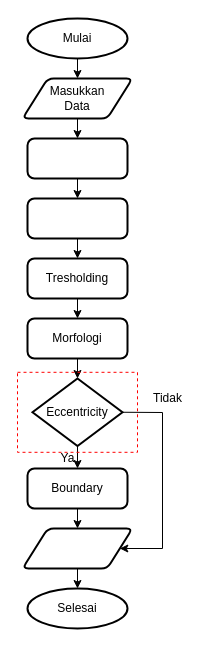
Image size: 210x646. Some labels were removed from this diagram. The shapes that lost their labels are listed below. From the top down, each one's centre as x and y in pixels, then its label:
point 77,158: Preprocessing
point 77,218: Segmentasi Warna (HSV)
point 77,548: Tampilkan Hasil
